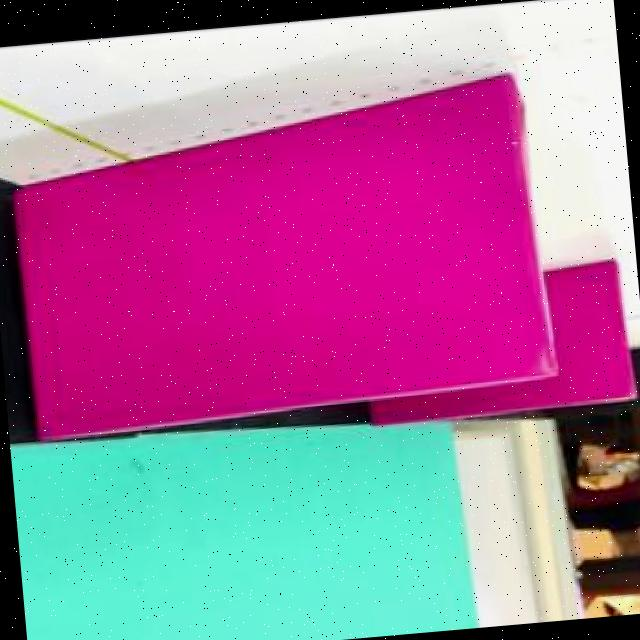xparking: (9, 72, 532, 410), (544, 260, 630, 400)
